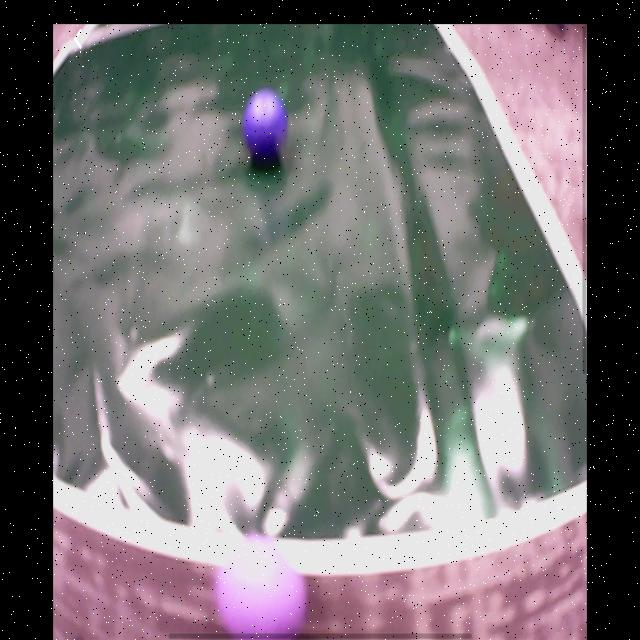ball: (219, 540, 306, 639), (244, 90, 287, 159)
